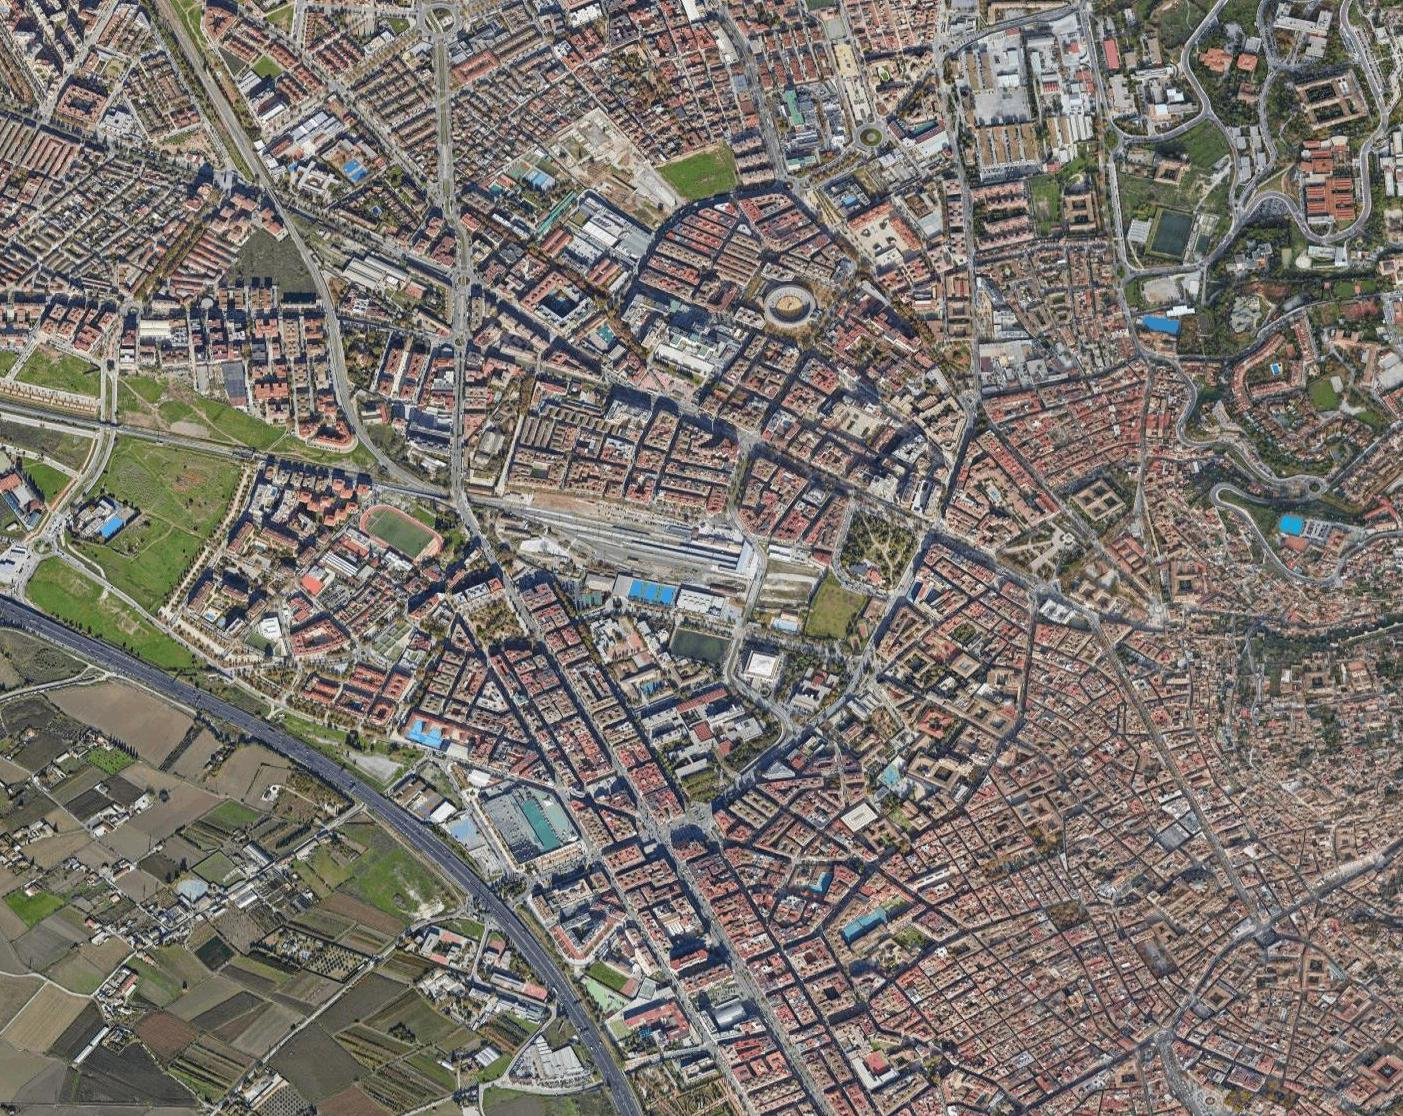motorway: (502, 914, 633, 1116), (173, 689, 362, 796), (366, 795, 501, 914), (1, 596, 177, 687)
train_station: (593, 500, 762, 594)
